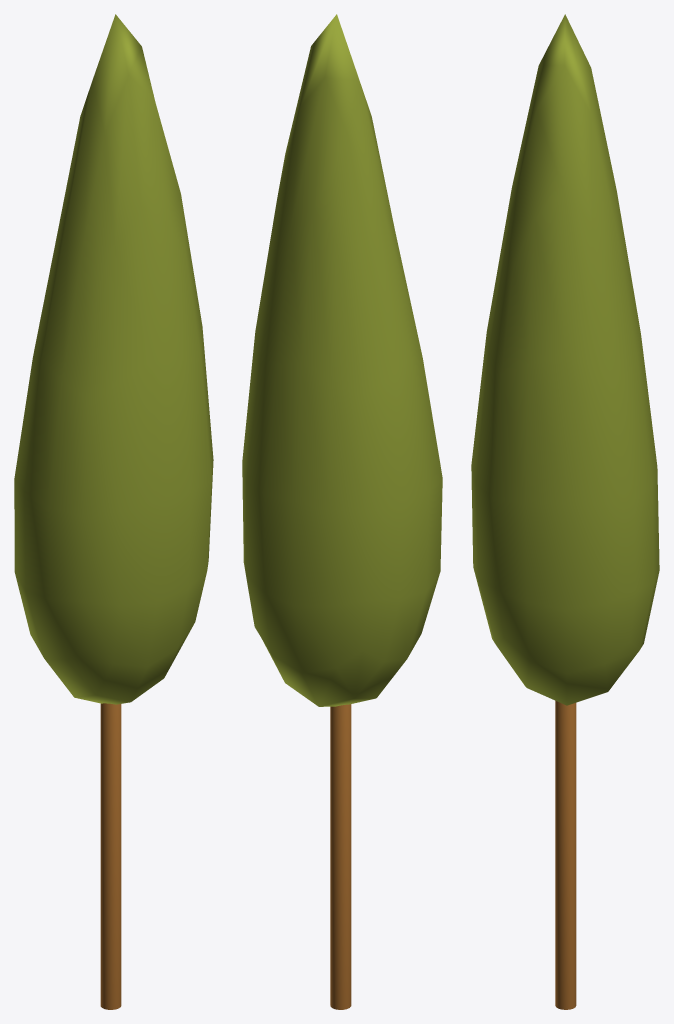
The model's file is tree.fbx.
3 renders of one model, left to right at view 1: azimuth 30°, elevation 25°; view 2: azimuth 150°, elevation 25°; view 3: azimuth 270°, elevation 25°, orthographic.
Visible parts, largest first — view 1: Tree; view 2: Tree; view 3: Tree.
Part boxes in pixels (bbox=[...]): Tree: bbox=[14, 14, 213, 1009]; Tree: bbox=[242, 14, 442, 1009]; Tree: bbox=[471, 14, 659, 1009].
Size of the model in its own units: 10.58 by 57.22 by 9.82.
